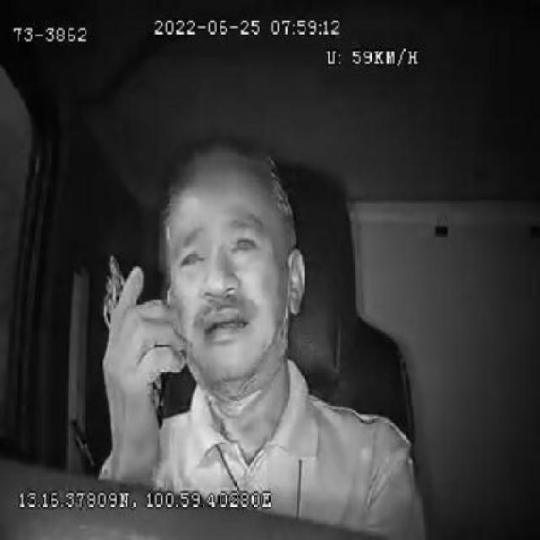phone: (99, 249, 168, 429)
